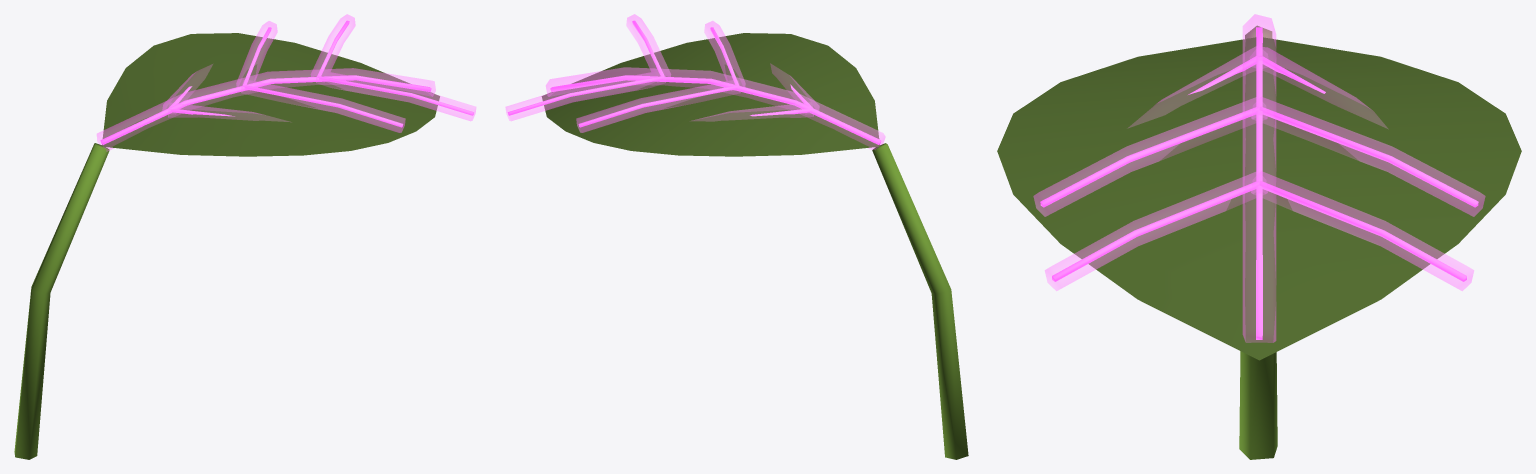
Rendered from city_glow_vein_leaf.glb.
The picture shows the model from 3 angles, left to right: view 1: azimuth 30°, elevation 25°; view 2: azimuth 150°, elevation 25°; view 3: azimuth 270°, elevation 25°; orthographic projection. The views are drawn at different scales.
Visible parts, largest first — view 1: CityGlowVeinLeaf_Blade, CityGlowVeinLeaf_Stalk, CityGlowVeinLeaf_Vein_Halo, CityGlowVeinLeaf_Vein1-1_Halo, CityGlowVeinLeaf_Vein2-1_Halo, CityGlowVeinLeaf_Vein_Core, CityGlowVeinLeaf_Vein0-1_Halo, CityGlowVeinLeaf_Vein11_Halo, CityGlowVeinLeaf_Vein21_Halo, CityGlowVeinLeaf_Vein1-1_Core, CityGlowVeinLeaf_Vein2-1_Core, CityGlowVeinLeaf_Vein01_Halo; view 2: CityGlowVeinLeaf_Blade, CityGlowVeinLeaf_Stalk, CityGlowVeinLeaf_Vein_Halo, CityGlowVeinLeaf_Vein11_Halo, CityGlowVeinLeaf_Vein21_Halo, CityGlowVeinLeaf_Vein_Core, CityGlowVeinLeaf_Vein01_Halo, CityGlowVeinLeaf_Vein1-1_Halo, CityGlowVeinLeaf_Vein2-1_Halo, CityGlowVeinLeaf_Vein11_Core, CityGlowVeinLeaf_Vein21_Core, CityGlowVeinLeaf_Vein0-1_Halo; view 3: CityGlowVeinLeaf_Blade, CityGlowVeinLeaf_Vein_Halo, CityGlowVeinLeaf_Vein11_Halo, CityGlowVeinLeaf_Vein1-1_Halo, CityGlowVeinLeaf_Vein2-1_Halo, CityGlowVeinLeaf_Vein21_Halo, CityGlowVeinLeaf_Stalk, CityGlowVeinLeaf_Vein01_Halo, CityGlowVeinLeaf_Vein0-1_Halo, CityGlowVeinLeaf_Vein_Core, CityGlowVeinLeaf_Vein1-1_Core, CityGlowVeinLeaf_Vein11_Core (+2 smaller).
Part boxes in pixels (<box>): CityGlowVeinLeaf_Blade: <box>102,33,439,156</box>; CityGlowVeinLeaf_Stalk: <box>14,143,109,459</box>; CityGlowVeinLeaf_Vein_Halo: <box>97,68,435,151</box>; CityGlowVeinLeaf_Vein1-1_Halo: <box>241,80,405,132</box>; CityGlowVeinLeaf_Vein2-1_Halo: <box>316,70,476,120</box>; CityGlowVeinLeaf_Vein_Core: <box>100,75,431,144</box>; CityGlowVeinLeaf_Vein0-1_Halo: <box>168,103,288,121</box>; CityGlowVeinLeaf_Vein11_Halo: <box>236,21,277,86</box>; CityGlowVeinLeaf_Vein21_Halo: <box>311,14,355,81</box>; CityGlowVeinLeaf_Vein1-1_Core: <box>243,85,403,127</box>; CityGlowVeinLeaf_Vein2-1_Core: <box>318,76,473,115</box>; CityGlowVeinLeaf_Vein01_Halo: <box>162,64,212,110</box>; CityGlowVeinLeaf_Blade: <box>541,33,879,156</box>; CityGlowVeinLeaf_Stalk: <box>872,143,968,459</box>; CityGlowVeinLeaf_Vein_Halo: <box>546,67,885,149</box>; CityGlowVeinLeaf_Vein11_Halo: <box>576,80,740,132</box>; CityGlowVeinLeaf_Vein21_Halo: <box>505,70,665,120</box>; CityGlowVeinLeaf_Vein_Core: <box>550,75,881,144</box>; CityGlowVeinLeaf_Vein01_Halo: <box>692,102,813,121</box>; CityGlowVeinLeaf_Vein1-1_Halo: <box>704,21,745,86</box>; CityGlowVeinLeaf_Vein2-1_Halo: <box>626,14,670,81</box>; CityGlowVeinLeaf_Vein11_Core: <box>578,85,738,127</box>; CityGlowVeinLeaf_Vein21_Core: <box>507,76,663,115</box>; CityGlowVeinLeaf_Vein0-1_Halo: <box>770,64,819,110</box>; CityGlowVeinLeaf_Blade: <box>997,37,1521,360</box>; CityGlowVeinLeaf_Vein_Halo: <box>1243,14,1275,342</box>; CityGlowVeinLeaf_Vein11_Halo: <box>1251,97,1485,216</box>; CityGlowVeinLeaf_Vein1-1_Halo: <box>1033,97,1267,216</box>; CityGlowVeinLeaf_Vein2-1_Halo: <box>1045,171,1267,290</box>; CityGlowVeinLeaf_Vein21_Halo: <box>1251,171,1473,290</box>; CityGlowVeinLeaf_Stalk: <box>1239,25,1277,459</box>; CityGlowVeinLeaf_Vein01_Halo: <box>1250,46,1387,128</box>; CityGlowVeinLeaf_Vein0-1_Halo: <box>1128,46,1267,127</box>; CityGlowVeinLeaf_Vein_Core: <box>1256,27,1262,339</box>; CityGlowVeinLeaf_Vein1-1_Core: <box>1040,107,1259,207</box>; CityGlowVeinLeaf_Vein11_Core: <box>1260,107,1478,207</box>.
Bounding box in the file's own units: 1.38 × 1.01 × 0.9.
